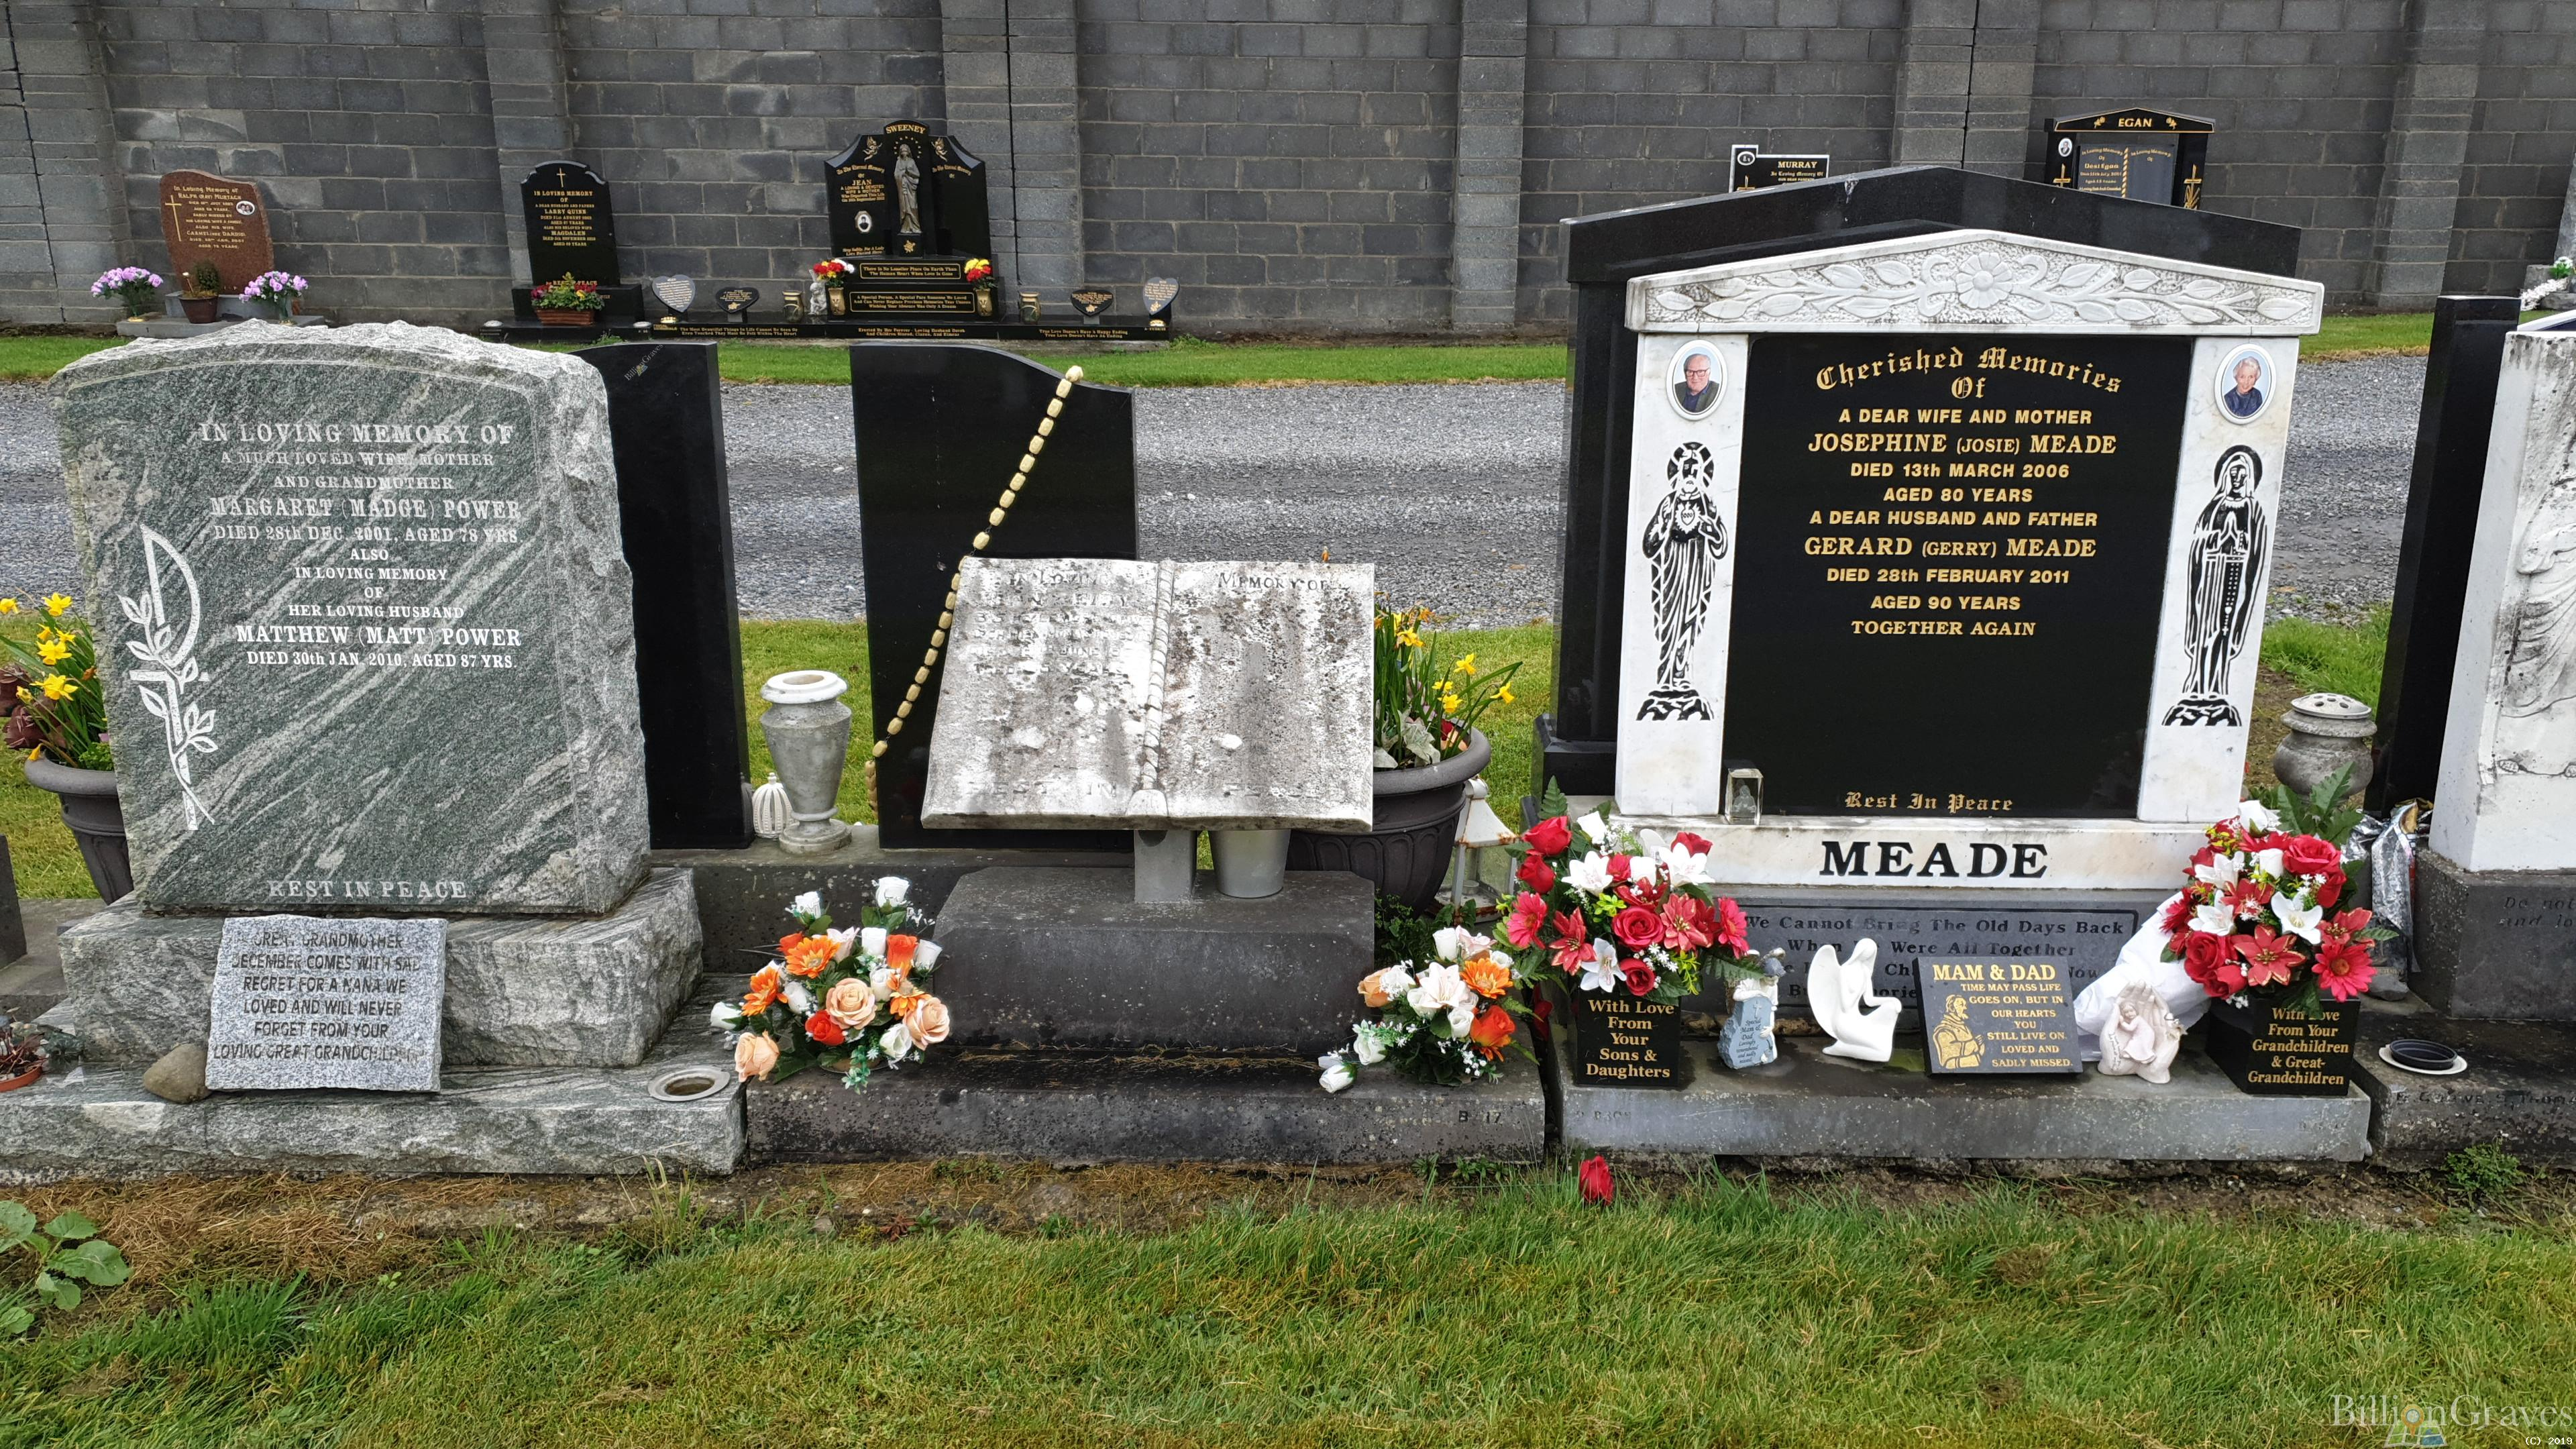upright: (1534, 165, 2387, 1118)
